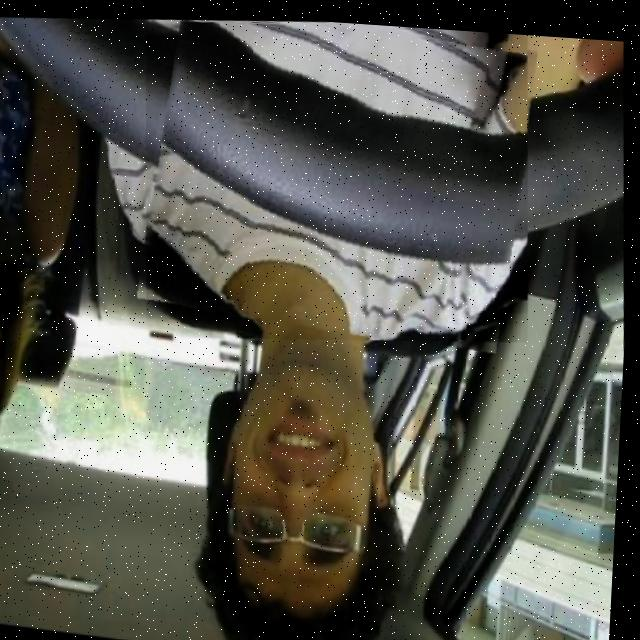no-seatbelt: (132, 8, 542, 353)
